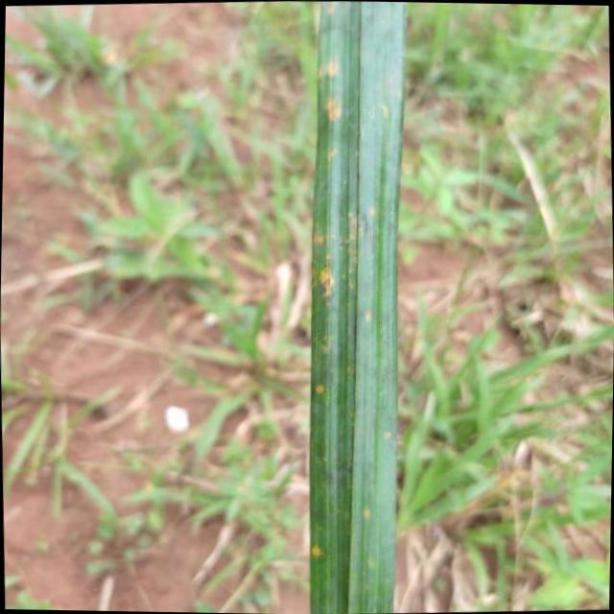Kalium: (304, 0, 408, 614)
